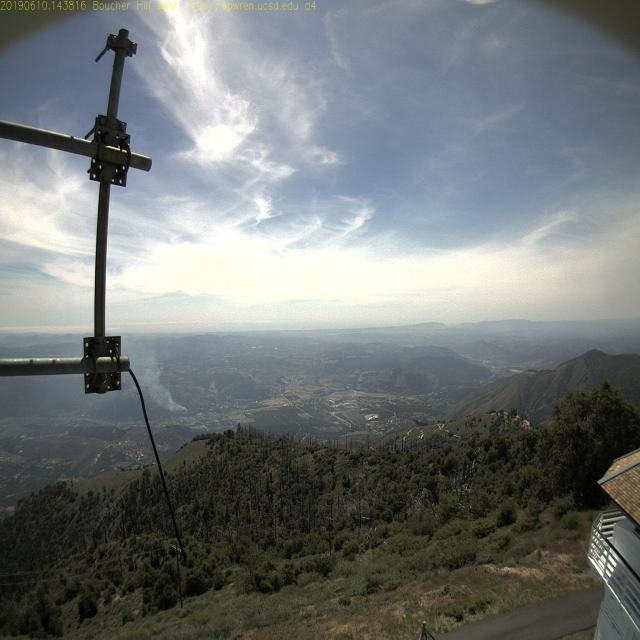smoke: (164, 386, 200, 427)
